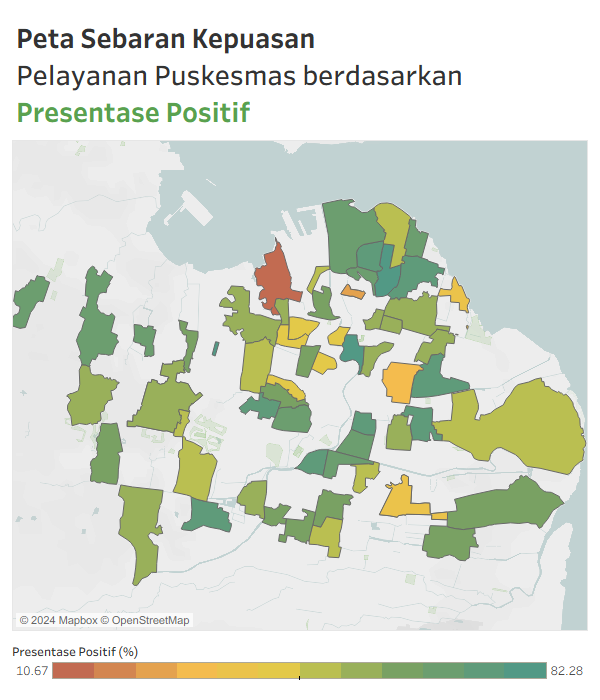

This screenshot's page, from the dashboard's own definition file:
{"tool":"tableau","page":{"name":"Peta Sebaran Distribusi Presentase Positif Dashboard","canvas":[600,700],"ordinal":1},"visuals":[{"type":"worksheet","title":"Peta Sebaran Distribusi Presentase Positif Puskesmas","mark":"Multipolygon","box":[8,8,584,627.3]},{"type":"legend","title":"Peta Sebaran Distribusi Presentase Positif Puskesmas","param":"[federated.09djcg00jpvf8a11wlj1g0byvxj0].[none:positive_percentage:qk]","box":[8,635.3,584,56.7]}]}

Visuals, with their boxes in screenshot pixels (x1, y1, x2, y2), scaled from the page's 600x700 canvas onto the 600x700 screenshot:
"Peta Sebaran Distribusi Presentase Positif Puskesmas" worksheet (Multipolygon marks): (8,8,592,635)
"Peta Sebaran Distribusi Presentase Positif Puskesmas" legend: (8,635,592,692)
